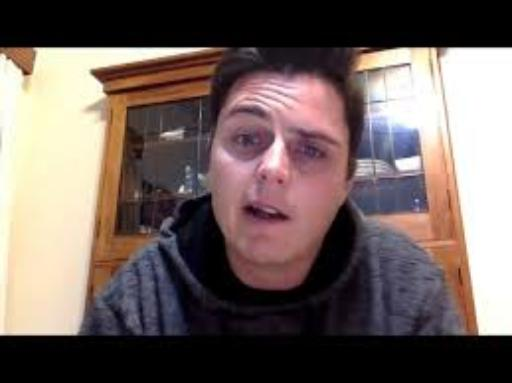left_eye: (294, 146, 331, 162)
left_lip_corner: (281, 214, 297, 227)
right_eye: (230, 133, 265, 149)
right_lip_corner: (239, 202, 250, 215)
